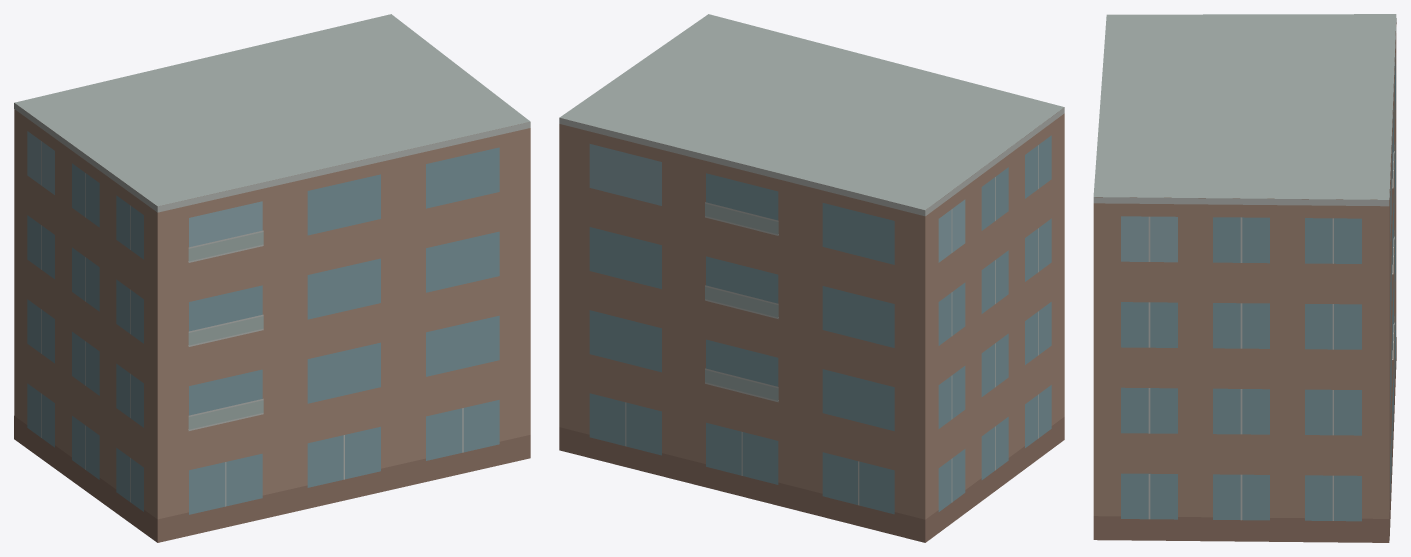
File: survey-upis-32948045.glb
3 views of the same model, side by side, from view 1: azimuth 30°, elevation 25°; view 2: azimuth 150°, elevation 25°; view 3: azimuth 270°, elevation 25° (orthographic). The views are drawn at different scales.
Visible parts, largest first — view 1: survey-upis-32948045.tmp; view 2: survey-upis-32948045.tmp; view 3: survey-upis-32948045.tmp.
Boxes of the visible parts, x1,y1,x2,y2 form: survey-upis-32948045.tmp: [14, 14, 530, 542]; survey-upis-32948045.tmp: [559, 14, 1064, 542]; survey-upis-32948045.tmp: [1093, 14, 1396, 542].
Bounding box in the file's own units: 15.35 × 13.2 × 10.58.
